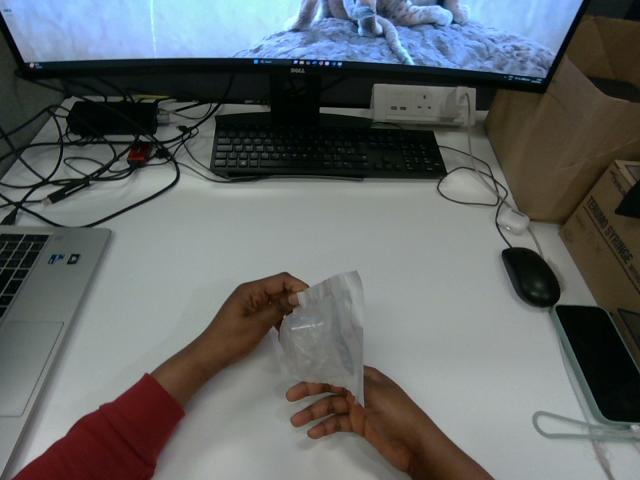gallipot: (280, 271, 363, 404)
